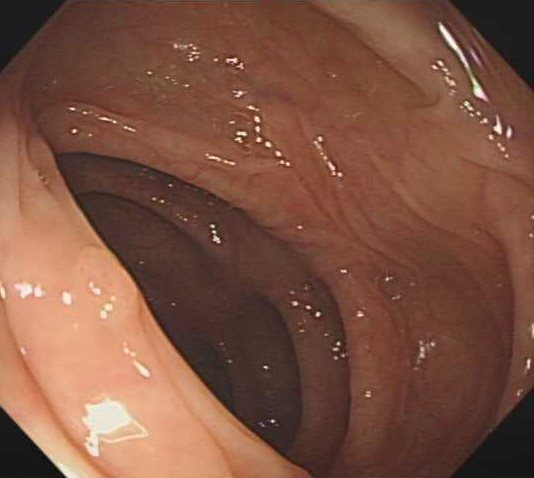others: (72, 242, 142, 320)
